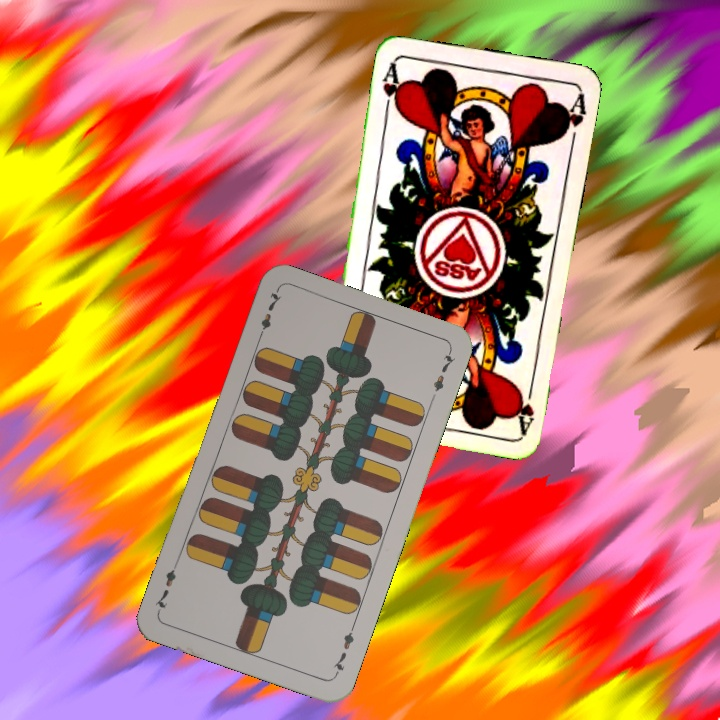E7: (253, 287, 284, 344), (329, 621, 358, 679)
HA: (378, 57, 405, 117), (510, 375, 537, 435)
